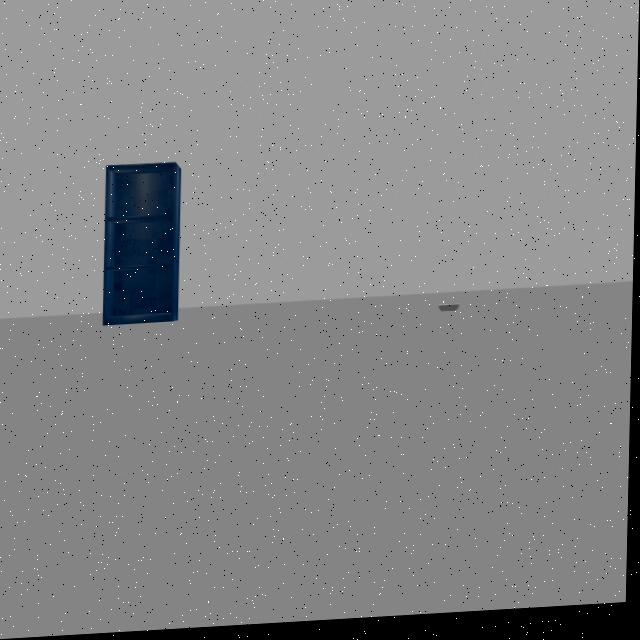bowl: (438, 296, 465, 333)
shelf: (94, 147, 196, 339)
